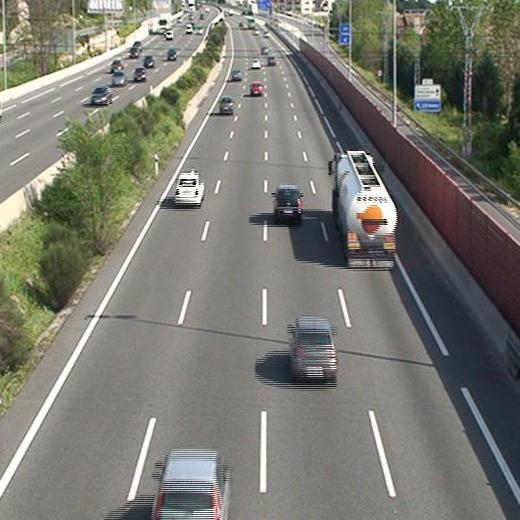car: (152, 451, 231, 520), (288, 318, 335, 378), (273, 186, 303, 220), (176, 172, 205, 203), (219, 96, 234, 113), (250, 82, 263, 96), (250, 58, 259, 68), (231, 70, 240, 80), (267, 56, 275, 65), (260, 45, 268, 53)
tank-truck: (331, 151, 397, 271)
